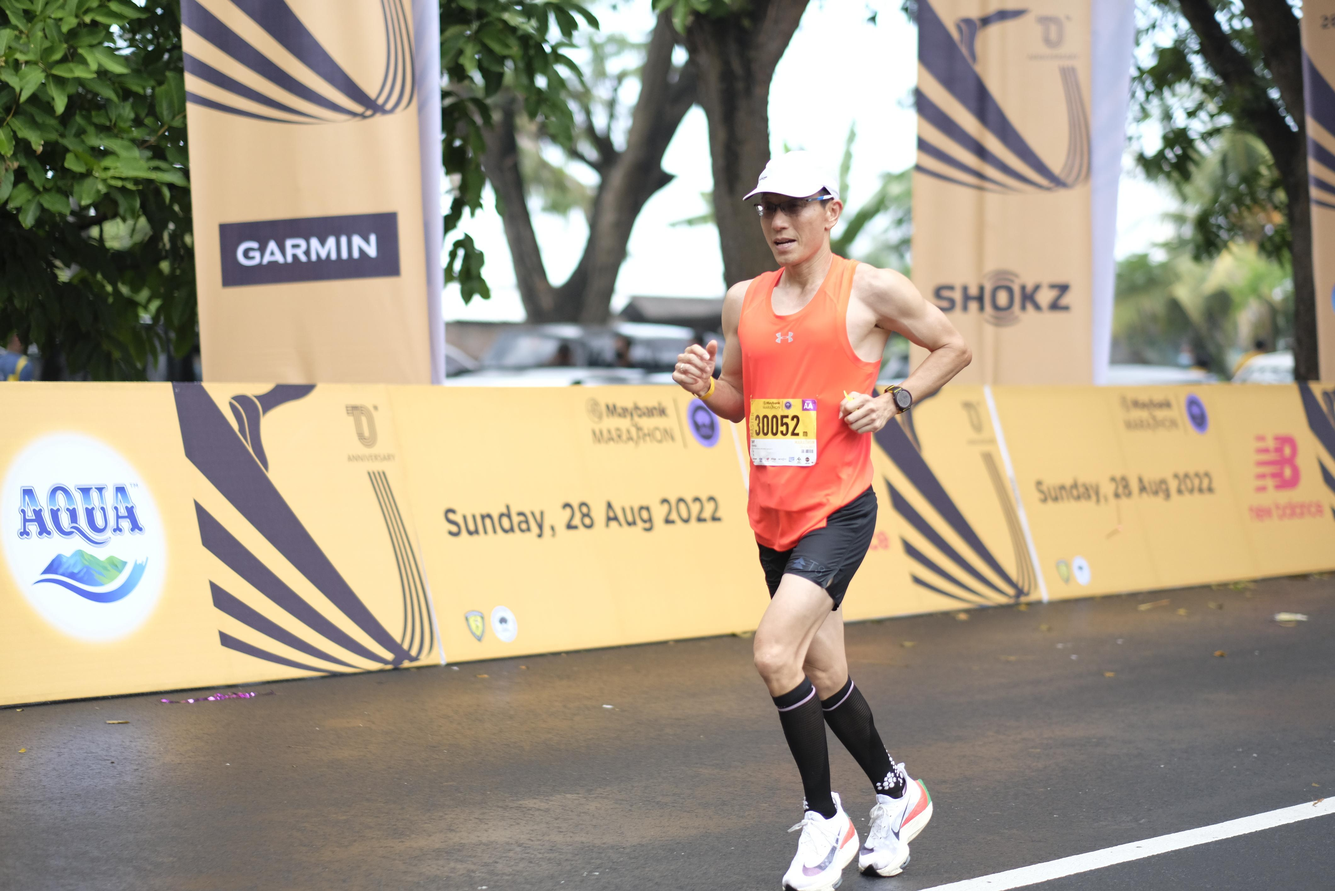bib: (747, 401, 821, 467)
